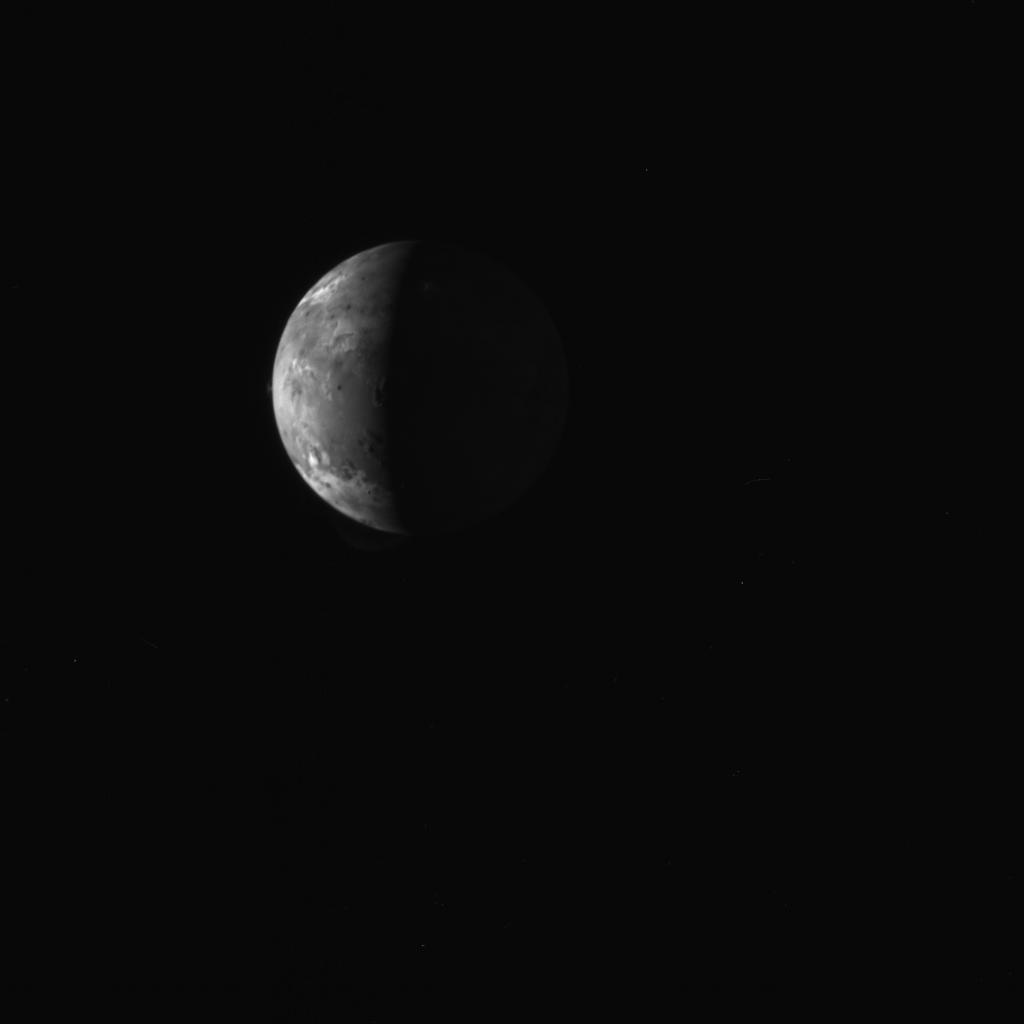plumes: (266, 382, 274, 394)
